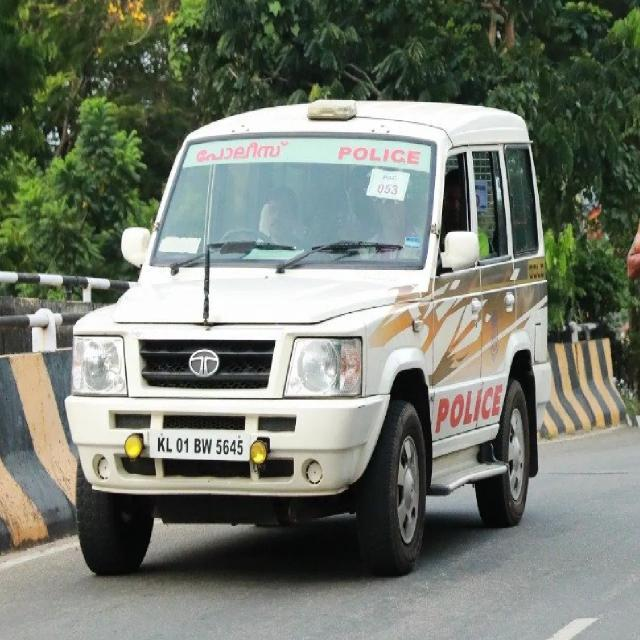Ambulance: (60, 94, 558, 584), (1, 420, 638, 638), (252, 184, 308, 254)
